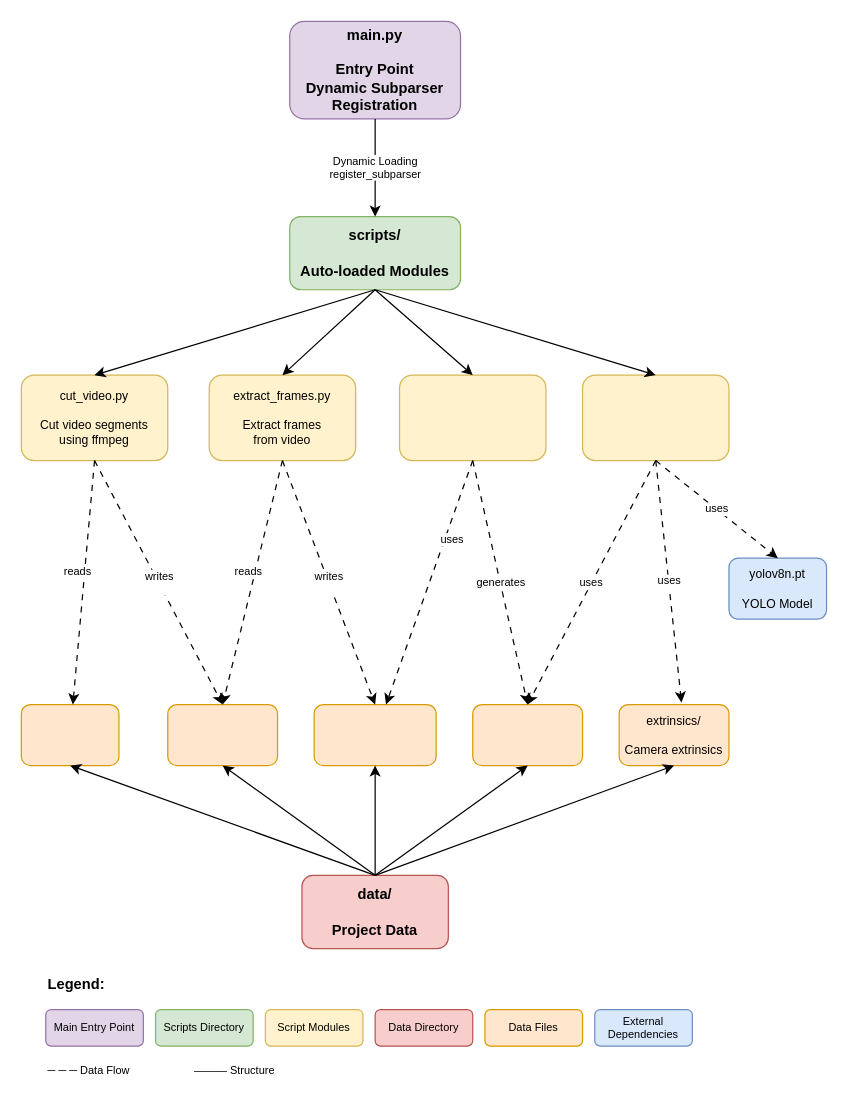
This 848x1104 diagram has some shape labels left out. The centre of each missing label's shape, as x and y in pixels:
"calibrate_camera.py Calibrate camera using chessboard" belongs at (x=472, y=417).
"cam1-cut- frames/ Extracted frames" belongs at (x=374, y=734).
"cam1-cut.mkv Original footage" belongs at (x=222, y=734).
"cam1.mkv Cut footage" belongs at (x=69, y=734).
"estimate_height.py Estimate height using YOLO + calibration" belongs at (x=655, y=417).
"intrinsics/ Auto-generated intrinsics" belongs at (x=527, y=734).
